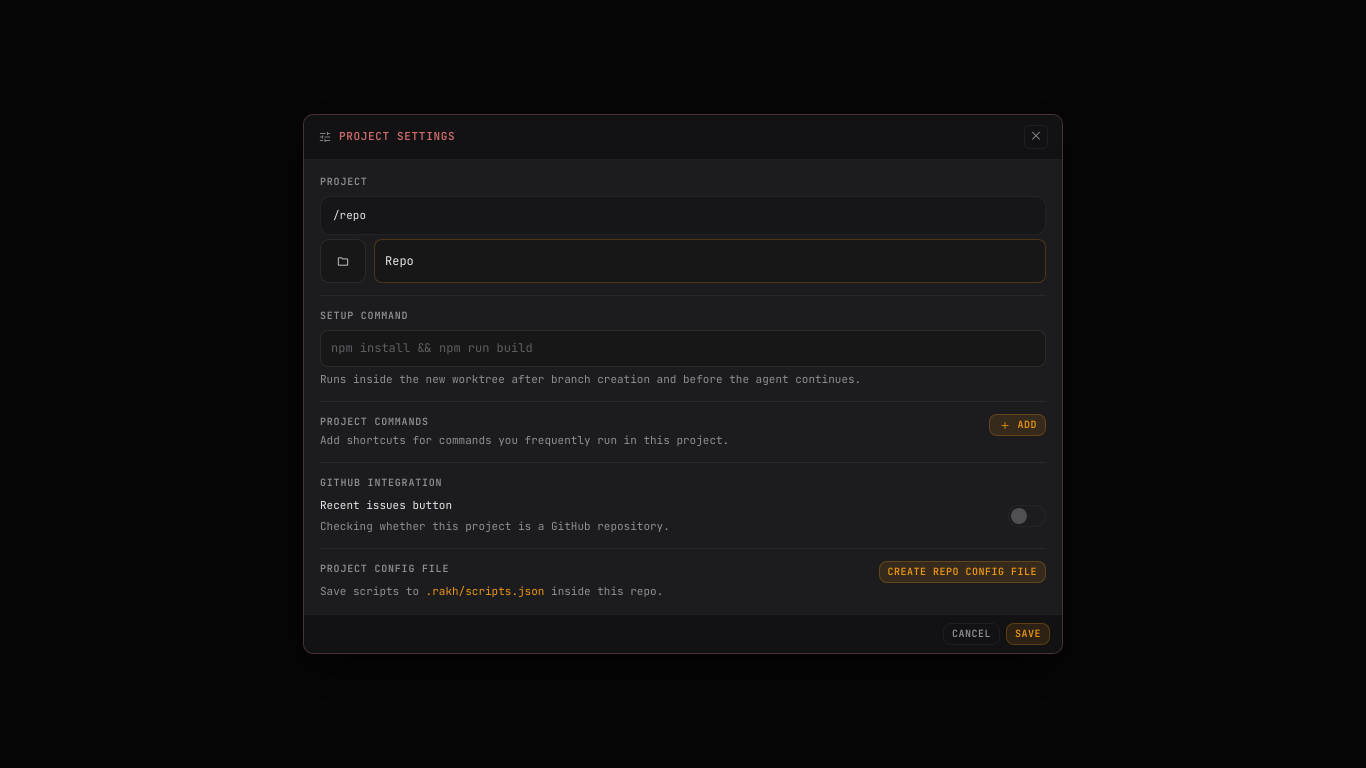
ProjectSettingsModal › filters project icon suggestions and applies the selected icon
Step 1. Click the button named "Selected project icon folder" → (343,261), box x1=320 y1=239 x2=366 y2=283
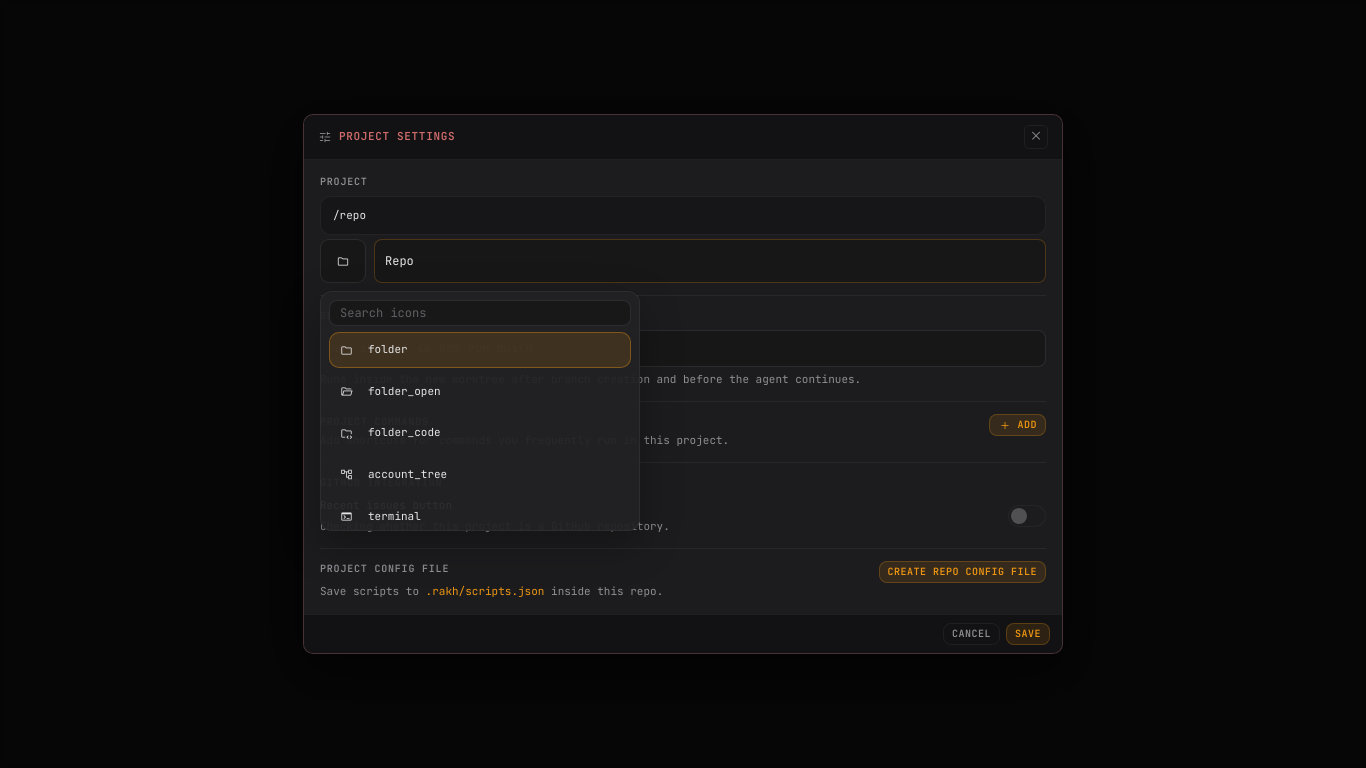
Step 2. Type "term" into the field named "Search project icons" → (480,313), box x1=330 y1=296 x2=630 y2=331
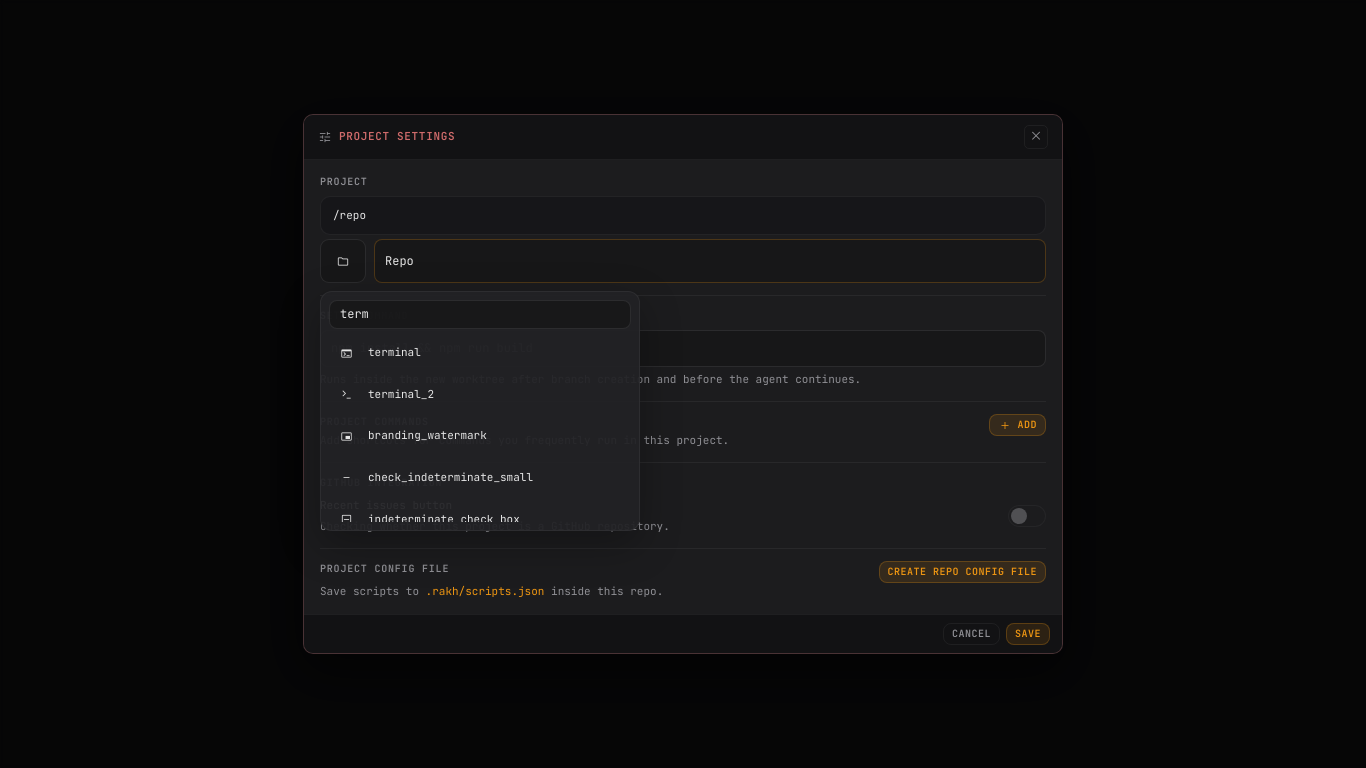
Step 3. Click the option "terminal" → (394,352), box x1=329 y1=335 x2=631 y2=371
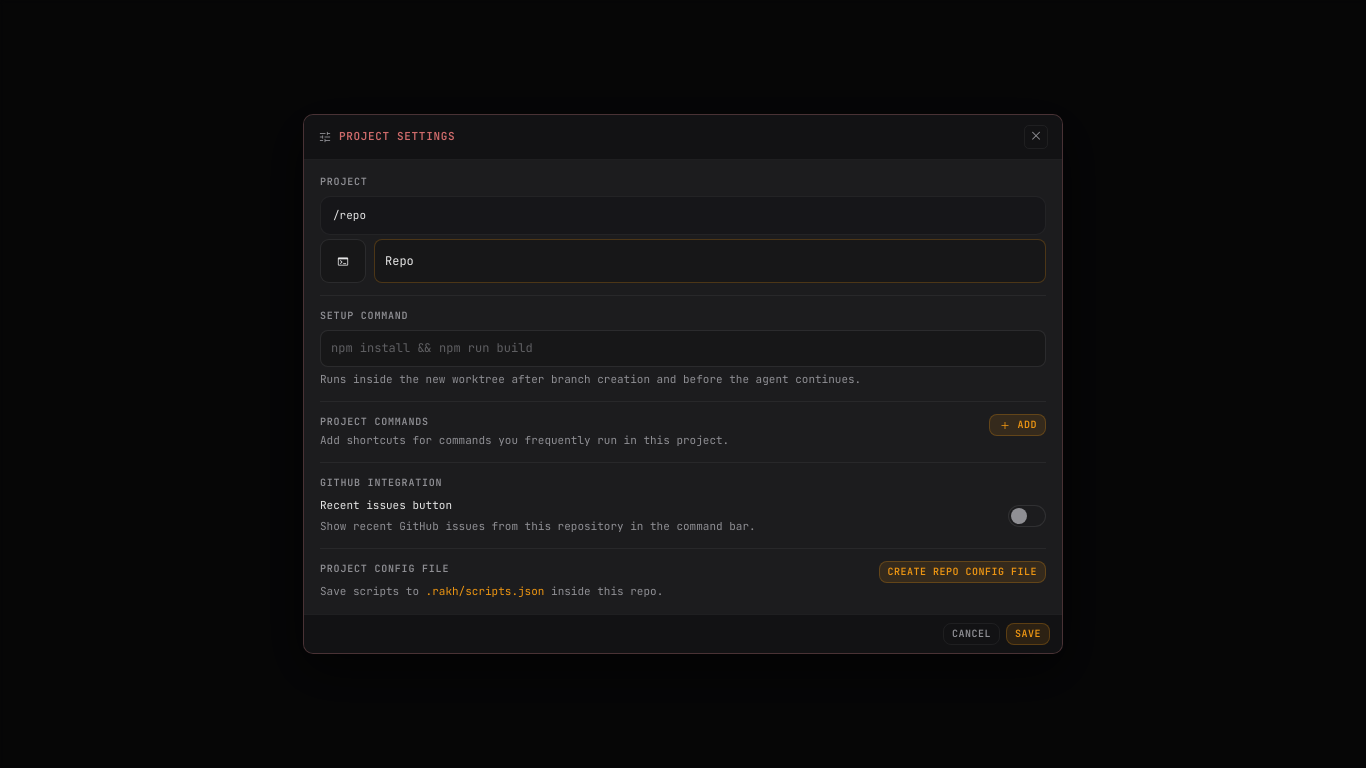
Check: the button named "Selected project icon terminal" is shown, box x1=320 y1=239 x2=366 y2=283
